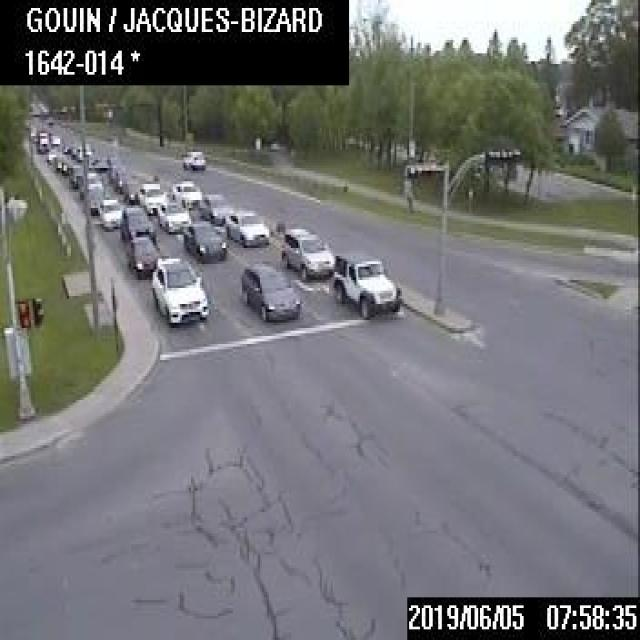vehicle: (331, 251, 400, 316), (150, 255, 207, 321), (239, 263, 299, 320), (280, 226, 333, 280), (224, 208, 268, 245), (182, 220, 224, 258), (124, 234, 160, 276), (118, 204, 154, 242), (198, 192, 232, 222), (156, 200, 188, 230), (136, 181, 165, 213), (170, 179, 200, 208), (96, 196, 119, 228), (78, 170, 104, 198), (181, 149, 204, 168), (86, 187, 101, 213), (122, 178, 137, 202), (114, 169, 130, 191), (67, 162, 81, 185), (34, 129, 49, 150), (75, 143, 91, 160), (60, 158, 70, 172), (54, 153, 62, 169), (46, 147, 54, 161), (49, 132, 58, 144), (61, 142, 70, 152), (69, 146, 75, 157)
